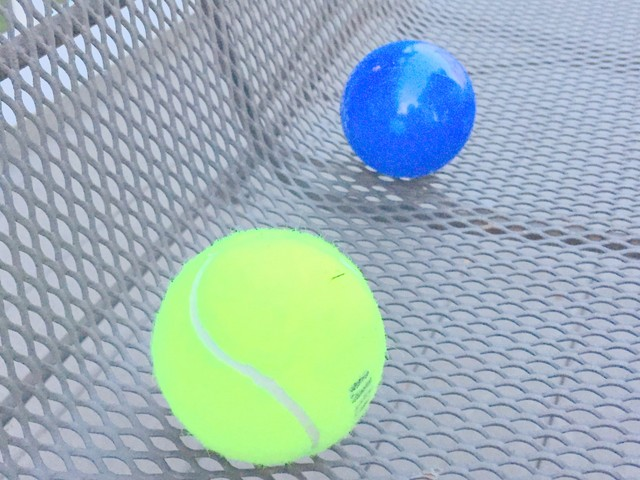Ball: (338, 40, 476, 177)
